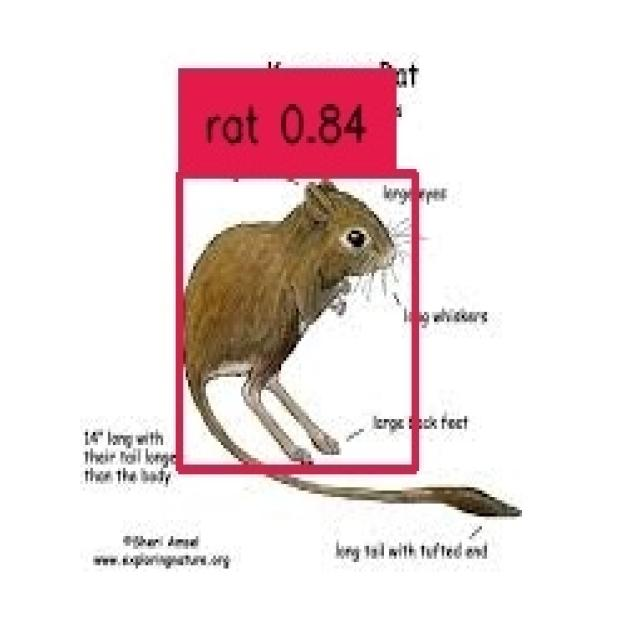rat: (176, 169, 412, 465)
